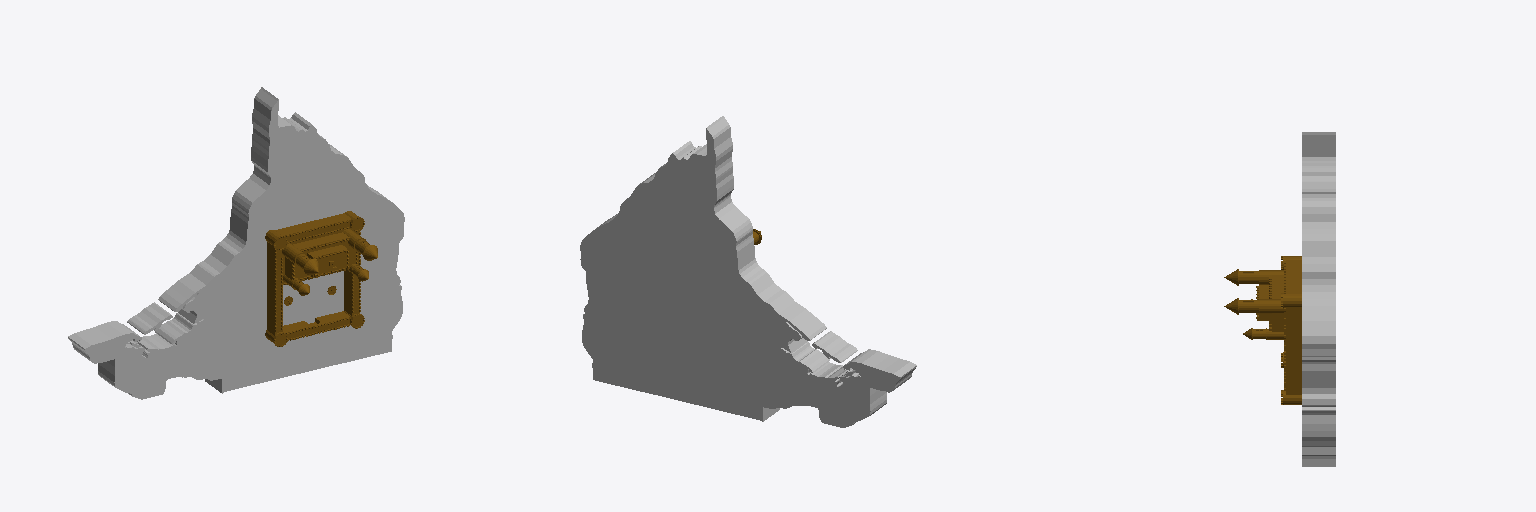
Rendered from Campeche.obj.
3 renders of one model, left to right at view 1: azimuth 30°, elevation 25°; view 2: azimuth 150°, elevation 25°; view 3: azimuth 270°, elevation 25°, orthographic.
Parts seen in each view (by area): view 1: group2 group_0_[number redacted], group1 group2 Castle_Exterior, Castle_Interior group1 group2, group1 group2 Towers_Doors_and_Windows; view 2: group2 group_0_[number redacted]; view 3: group2 group_0_[number redacted], group1 group2 Castle_Exterior, group1 group2 Towers_Doors_and_Windows, Castle_Interior group1 group2.
Part boxes in pixels (x1,y1,x2,y2): group2 group_0_[number redacted]: (68,87,404,399); group1 group2 Castle_Exterior: (265,211,364,346); Castle_Interior group1 group2: (283,228,357,284); group1 group2 Towers_Doors_and_Windows: (282,229,377,324); group2 group_0_[number redacted]: (580,116,916,427); group2 group_0_[number redacted]: (1302,132,1335,466); group1 group2 Castle_Exterior: (1281,256,1301,404); group1 group2 Towers_Doors_and_Windows: (1224,269,1285,339); Castle_Interior group1 group2: (1256,275,1285,341).
Size of the model in its own units: 27.45 by 23.02 by 8.31.